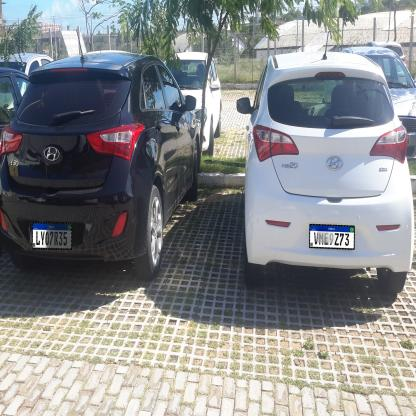PlacaM: (309, 224, 355, 250), (32, 222, 72, 250)
